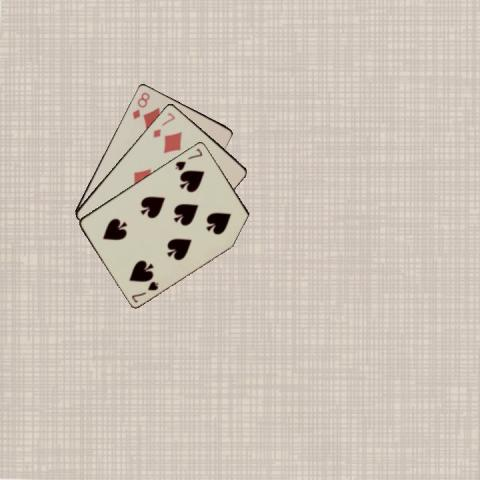7d: (150, 110, 177, 140)
7s: (172, 145, 204, 172), (129, 278, 160, 303)
8d: (130, 88, 152, 120)
